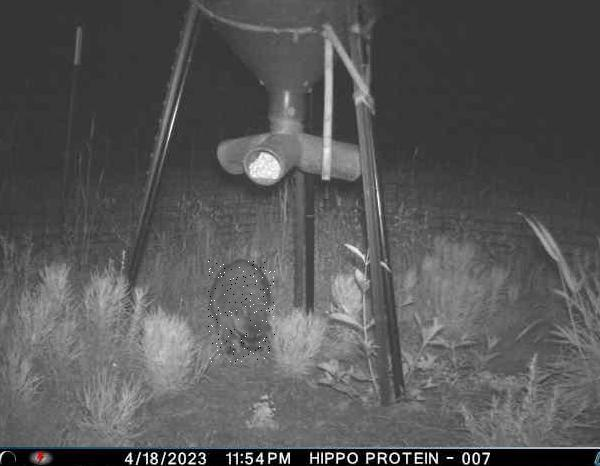Raccoon: (208, 258, 275, 363)
